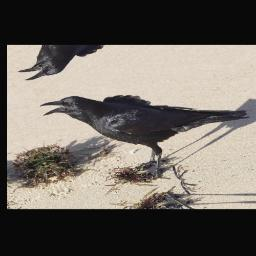Crow: (36, 58, 256, 198)
